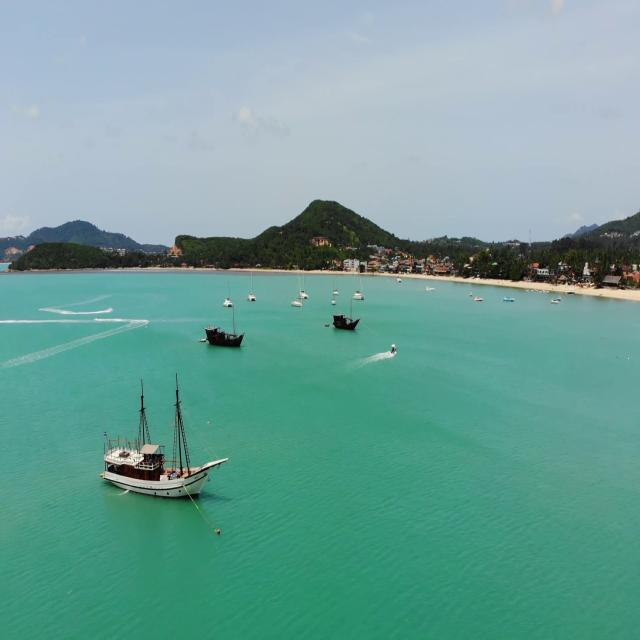fishing boat: (89, 370, 232, 502), (202, 298, 259, 356), (328, 294, 360, 334)
